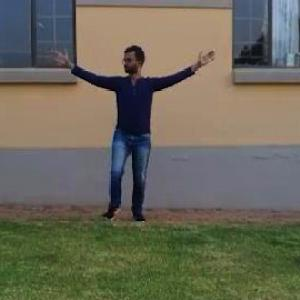takeoff: (30, 31, 206, 230)
